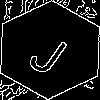J: (25, 25, 77, 78)
